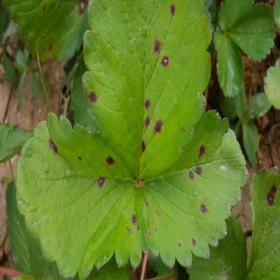Leaf Spot: (80, 0, 211, 180), (14, 112, 149, 279), (139, 107, 250, 271), (245, 167, 279, 279), (263, 58, 279, 110)
